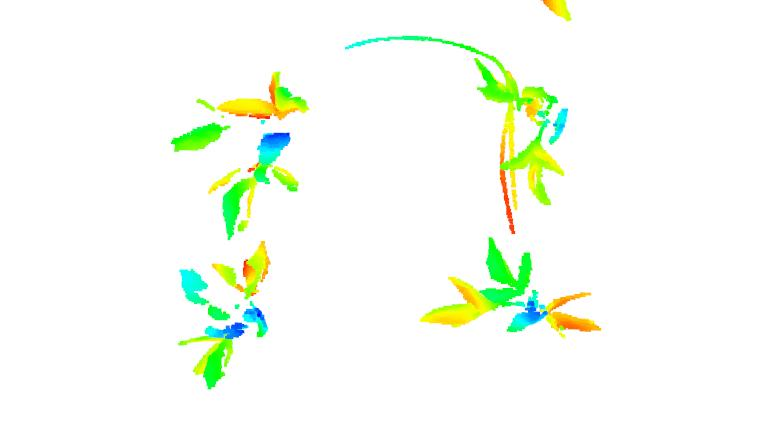mungbean: (168, 69, 314, 238), (418, 238, 602, 343), (171, 232, 279, 393), (468, 50, 567, 209)
